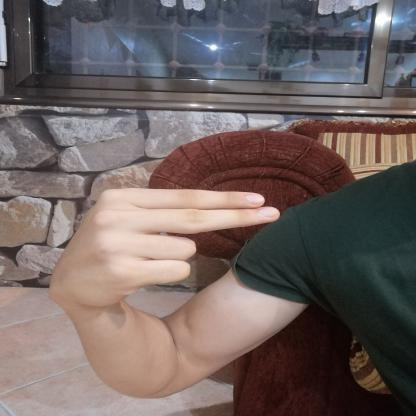AYN: (29, 176, 296, 322)
